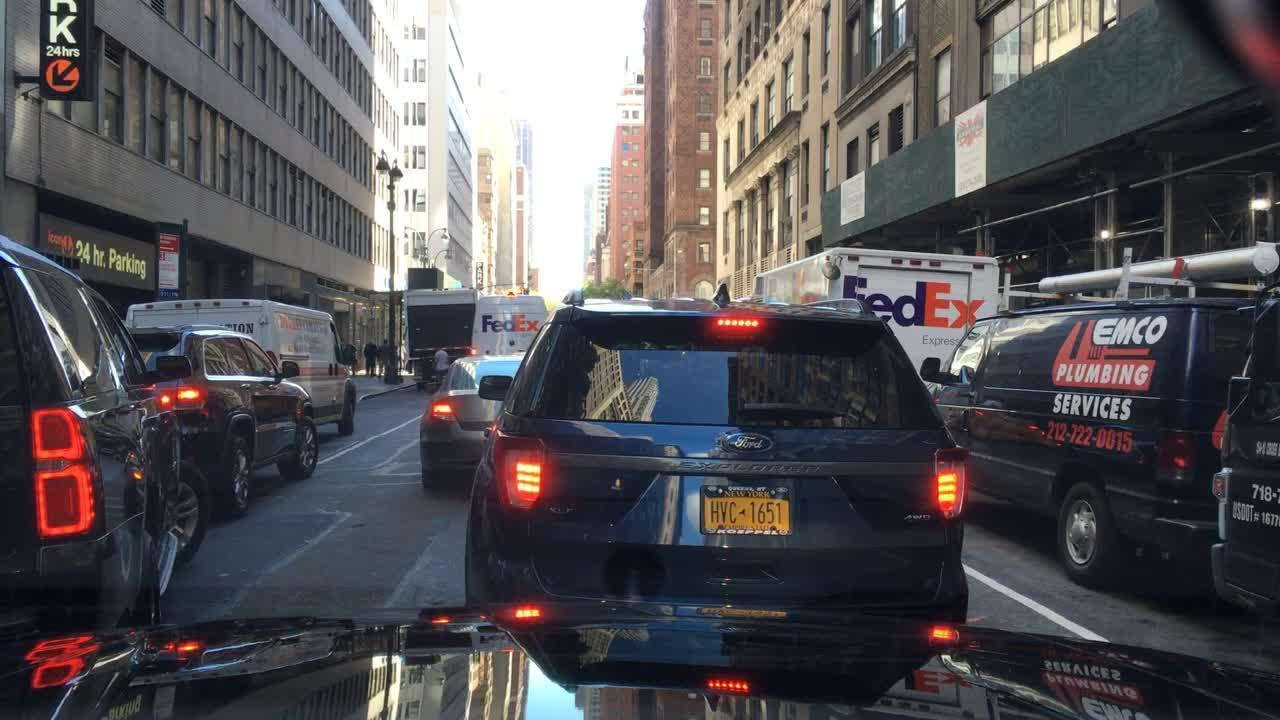ford: (717, 427, 777, 460)
